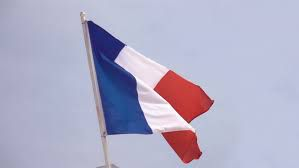French Flag: (87, 20, 215, 162)
